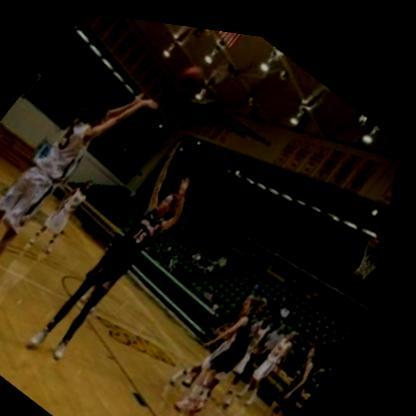basketball: (175, 49, 212, 87)
